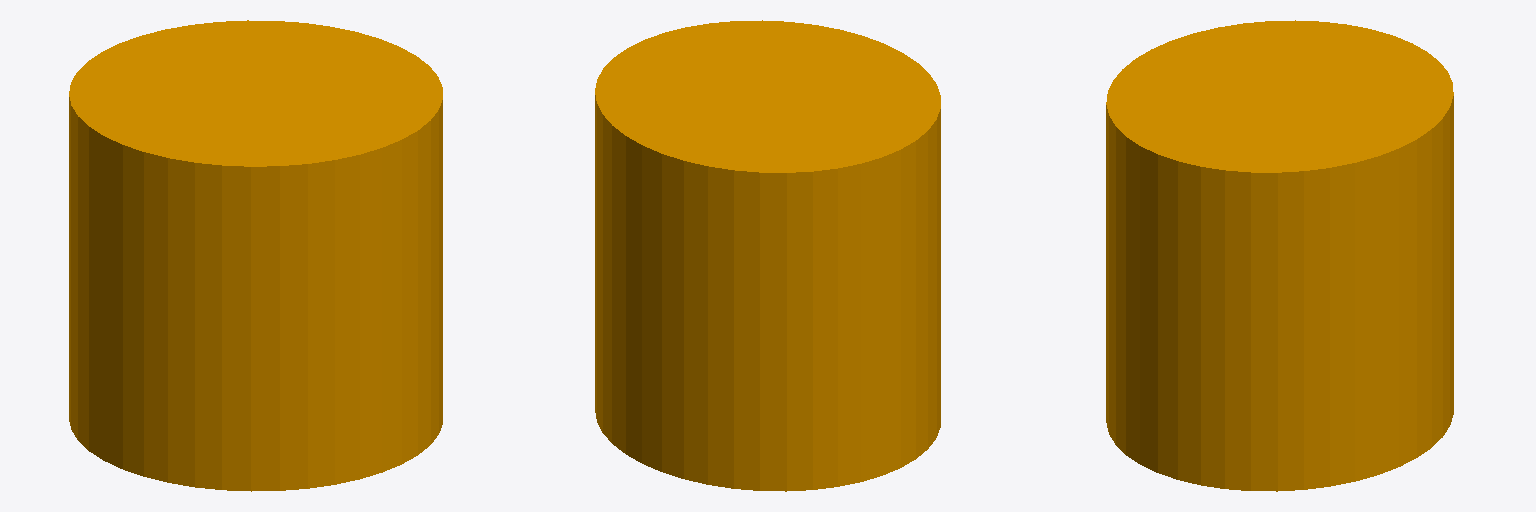
robot.urdf — object:
<?xml version="1.0"?>
<robot name="object">
  <link name="object">
    <visual>
      <origin xyz="0 0 0"/>
      <geometry>
        <mesh filename="meshes/generated/col_039.obj" scale="0.03 0.03 0.03"/>
      </geometry>
    </visual>
    <collision>
      <origin xyz="0 0 0"/>
      <geometry>
        <mesh filename="meshes/generated/col_039.obj" scale="0.03 0.03 0.03"/>
      </geometry>
    </collision>
    <inertial>
      <density value="1000.0"/>
    </inertial>
  </link>
</robot>

--- Facts derived from the render (not from the file) ---
Views: 3 orthographic renders of the robot side by side, from view 1: azimuth 30°, elevation 25°; view 2: azimuth 150°, elevation 25°; view 3: azimuth 270°, elevation 25°.
Robot: object — 1 links, 0 joints (none); root link object; default pose: all joints at 0.
Visible links, largest first — view 1: object; view 2: object; view 3: object.
Link boxes in pixels (x1,y1,x2,y2): object: (69, 20, 442, 491); object: (595, 20, 940, 491); object: (1106, 20, 1453, 491).
Bounding box of the posed robot: 0.0615 × 0.0593 × 0.06 m (x, y, z).
Meshes: 1 distinct files referenced, 1 mesh visuals loaded (1 OBJ).
